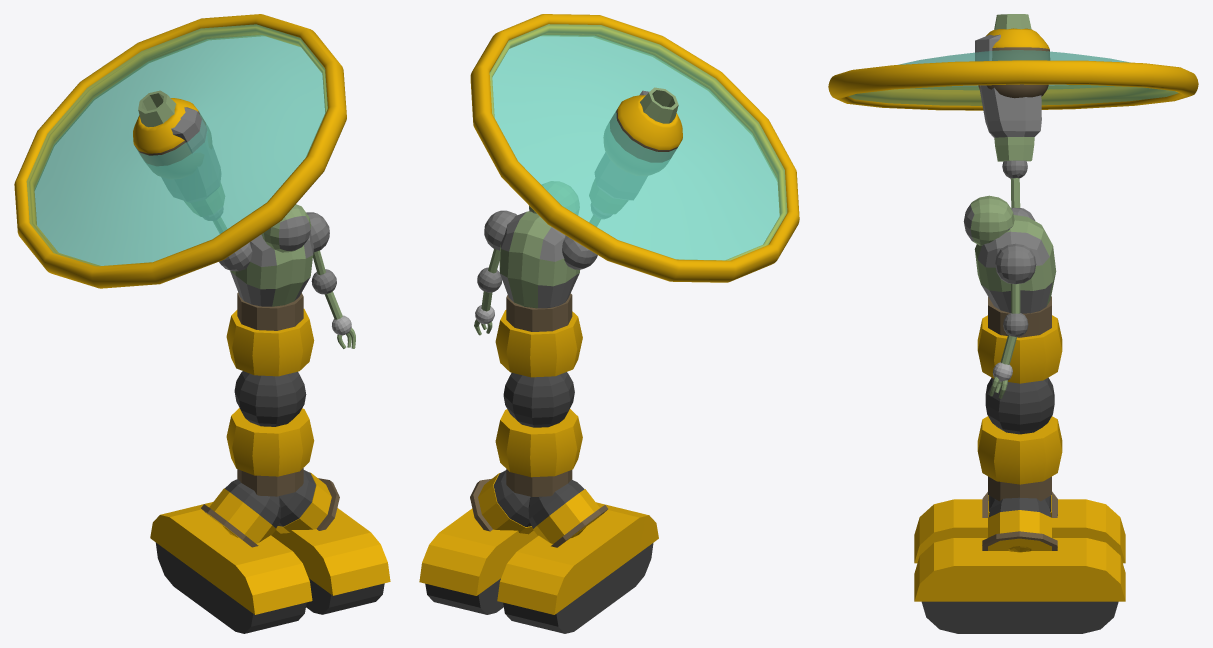
File: shield cannon combo.fbx
The picture shows the model from 3 angles, left to right: view 1: azimuth 30°, elevation 25°; view 2: azimuth 150°, elevation 25°; view 3: azimuth 270°, elevation 25°; orthographic projection.
Visible parts, largest first — view 1: SC_polySurface106, SC_tread_R (×2), SC_pCylinder26, SC_pCylinder13, SC_tread_wheels_R (×2), SC_pCylinder22, SC_pCube20, SC_Tread_leg_R1, SC_pSphere4, SC_pSphere5, SC_pCube18, SC_polySurface50 (+1 smaller); view 2: SC_polySurface106, SC_tread_R (×2), SC_pCube20, SC_pCylinder26, SC_pCylinder13, SC_tread_wheels_R (×2), SC_Tread_leg_R1, SC_pSphere4, SC_pCylinder22, SC_pSphere5, SC_polySurface59, SC_polySurface50 (+1 smaller); view 3: SC_polySurface106, SC_tread_R (×2), SC_tread_wheels_R, SC_pCylinder13, SC_pCylinder26, SC_pCylinder22, SC_pCube20, SC_pSphere5, SC_Tread_leg_R1, SC_pCube18, SC_polySurface50.
Part boxes in pixels (<box>): SC_polySurface106: <box>14,14,346,288</box>; SC_tread_R (×2): <box>150,502,390,614</box>; SC_pCylinder26: <box>226,292,314,376</box>; SC_pCylinder13: <box>226,408,314,496</box>; SC_tread_wheels_R (×2): <box>155,542,384,633</box>; SC_pCylinder22: <box>138,90,224,216</box>; SC_pCube20: <box>230,232,313,306</box>; SC_Tread_leg_R1: <box>234,371,306,426</box>; SC_pSphere4: <box>201,479,280,547</box>; SC_pSphere5: <box>276,470,339,533</box>; SC_pCube18: <box>261,204,311,252</box>; SC_polySurface50: <box>306,212,329,252</box>; SC_polySurface106: <box>470,14,799,282</box>; SC_tread_R (×2): <box>419,502,658,614</box>; SC_pCube20: <box>499,211,579,308</box>; SC_pCylinder26: <box>495,293,582,377</box>; SC_pCylinder13: <box>495,409,582,496</box>; SC_tread_wheels_R (×2): <box>425,543,653,633</box>; SC_Tread_leg_R1: <box>503,372,574,427</box>; SC_pSphere4: <box>528,479,608,547</box>; SC_pCylinder22: <box>589,87,678,213</box>; SC_pSphere5: <box>470,470,533,534</box>; SC_polySurface59: <box>562,235,597,269</box>; SC_polySurface50: <box>484,210,517,250</box>; SC_polySurface106: <box>828,28,1198,110</box>; SC_tread_R (×2): <box>914,499,1125,601</box>; SC_tread_wheels_R: <box>921,601,1118,633</box>; SC_pCylinder13: <box>977,416,1062,501</box>; SC_pCylinder26: <box>977,296,1062,383</box>; SC_pCylinder22: <box>975,14,1041,161</box>; SC_pCube20: <box>974,215,1056,313</box>; SC_pSphere5: <box>982,497,1057,552</box>; SC_Tread_leg_R1: <box>985,377,1054,434</box>; SC_pCube18: <box>963,195,1014,245</box>; SC_polySurface50: <box>995,243,1036,284</box>.
Size of the model in its own units: 3961 by 6846 by 4111.
